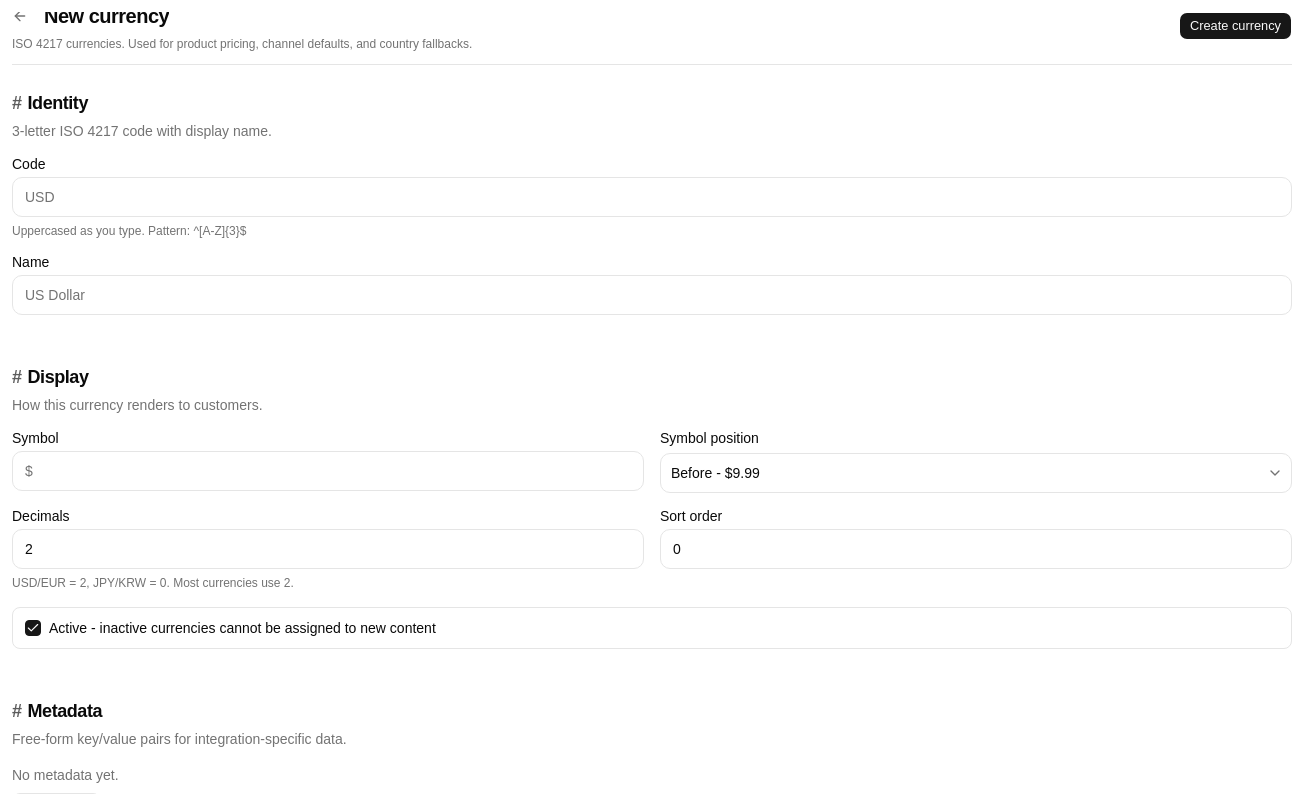
it: CurrencyCreatePage › stops a bad code at the field
The width and height of the screenshot is (1304, 794).
Type "eu" into the field labelled "Code".
click(652, 197); type("eu")  # box [12,177,1292,217]
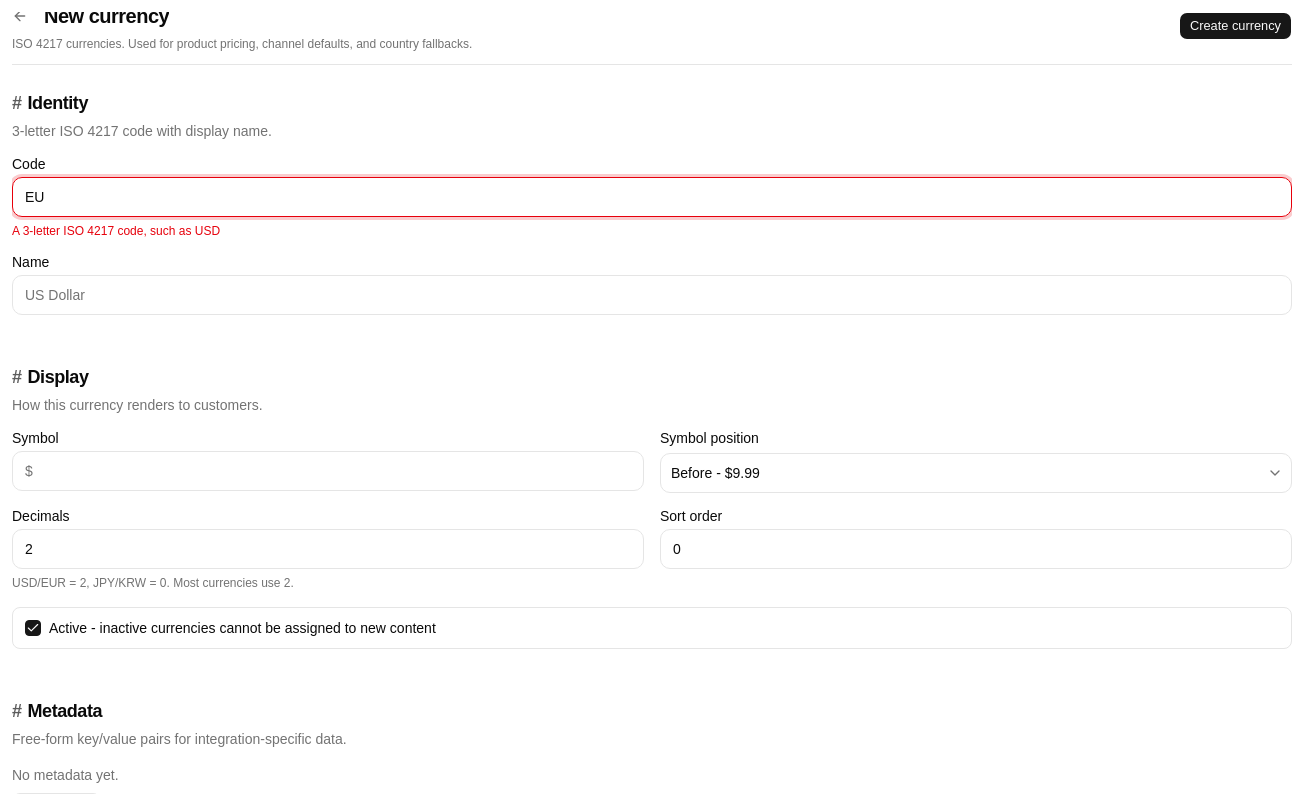
Type "Euro" into the field labelled "Name".
click(652, 295); type("Euro")  # box [12,275,1292,315]
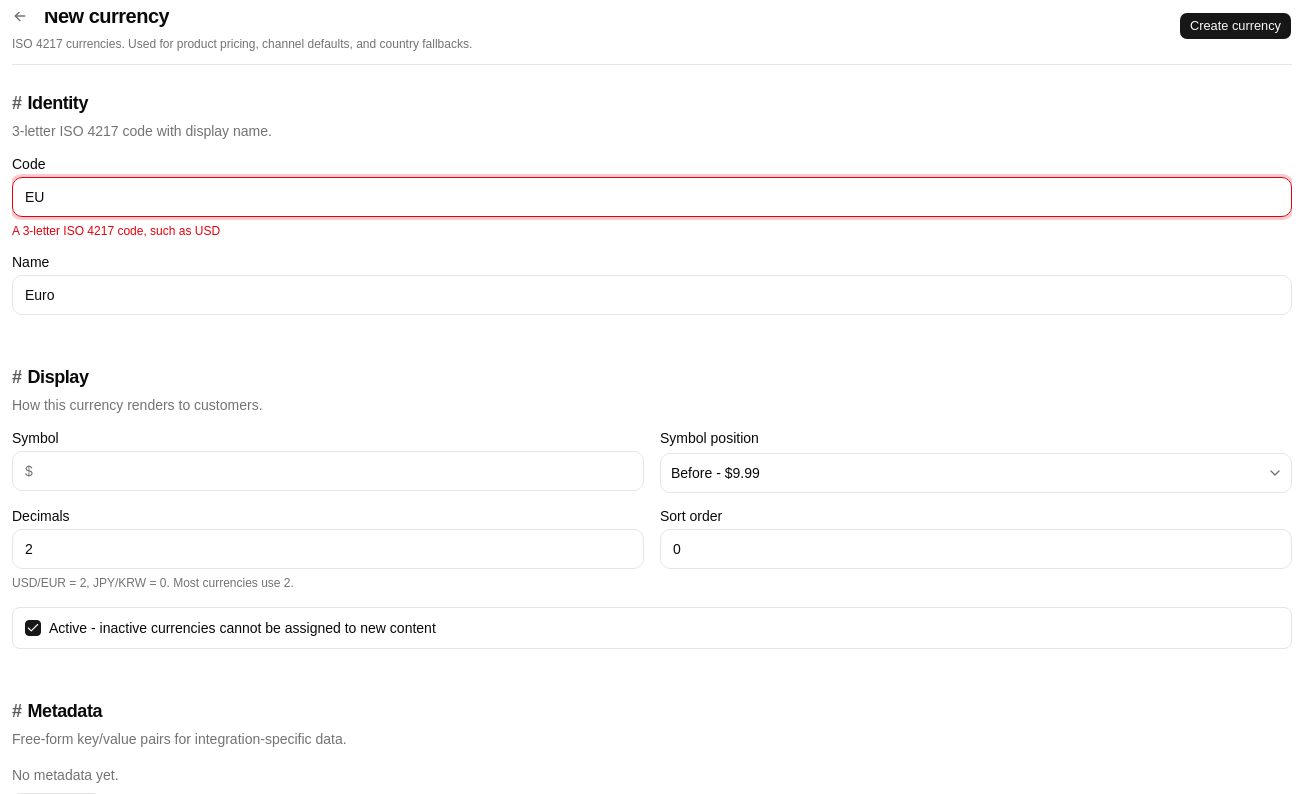
Click the button "Create currency".
click(1236, 26)  # box [1179,12,1292,40]
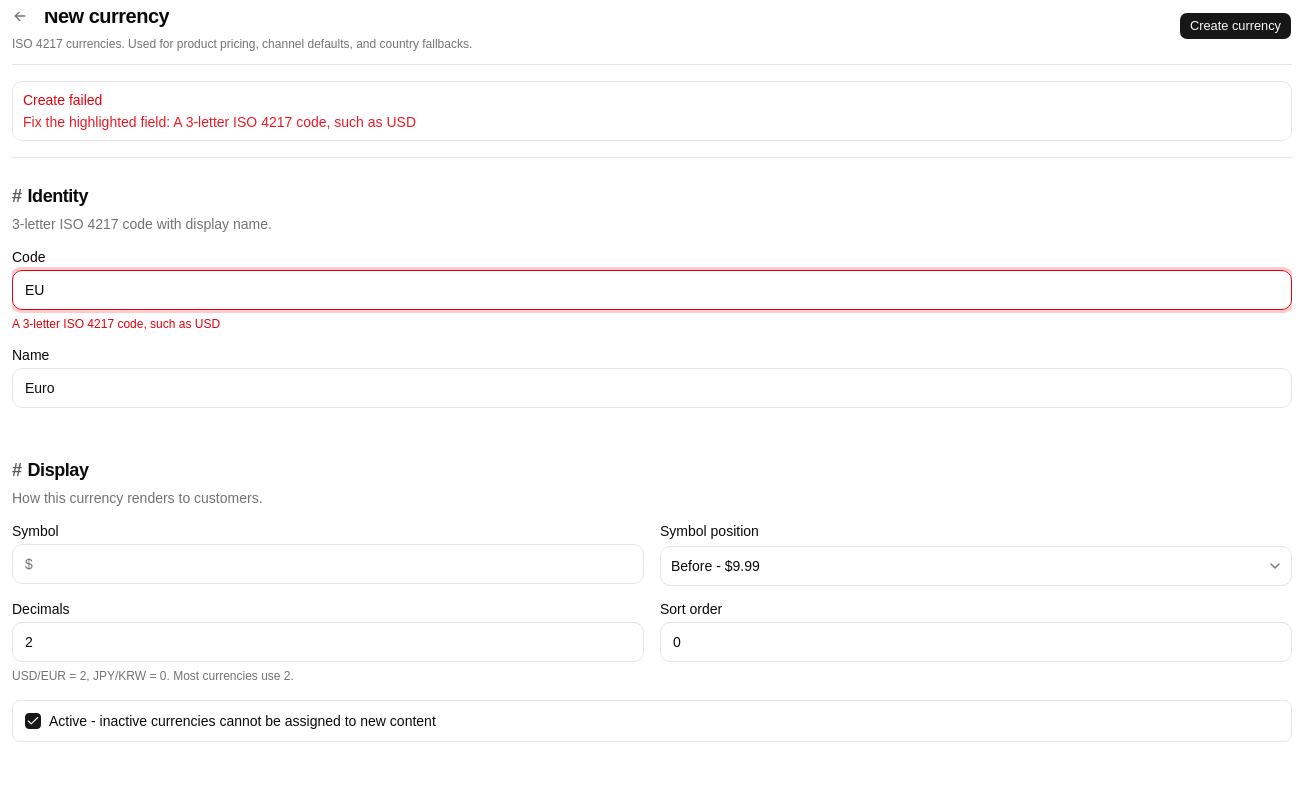
Expected: the text "Fix the highlighted field: A 3-letter ISO 4217 code" is shown, [23,114,416,130]
